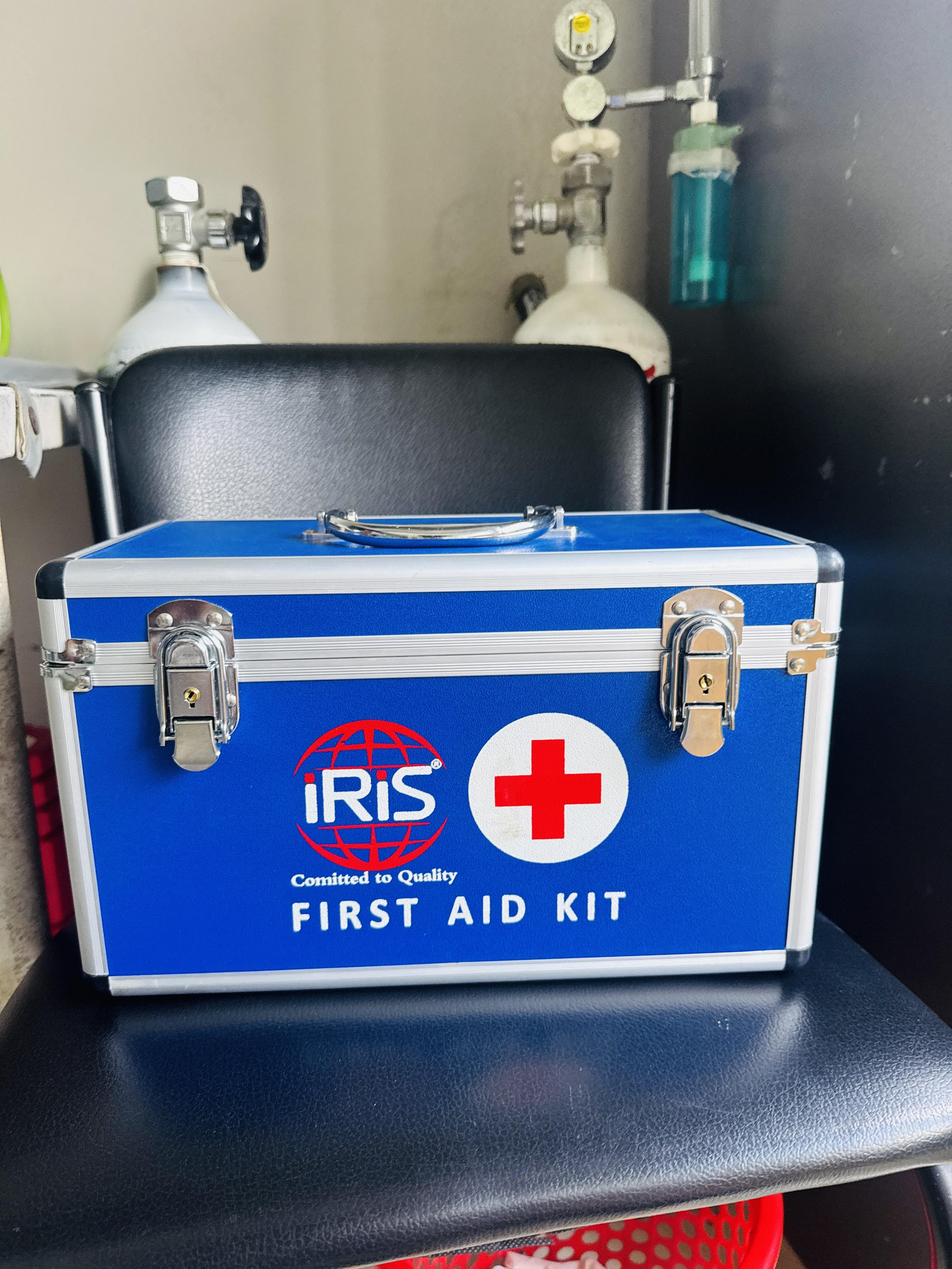FirstAidBox: (28, 478, 864, 1013)
